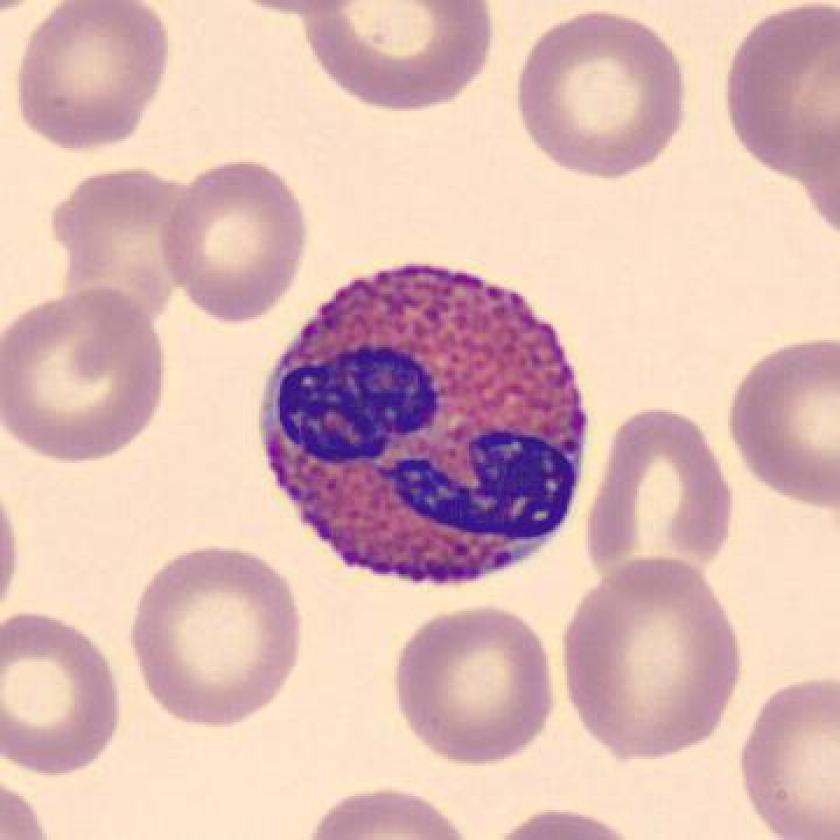eosinophil: (251, 246, 601, 603)
